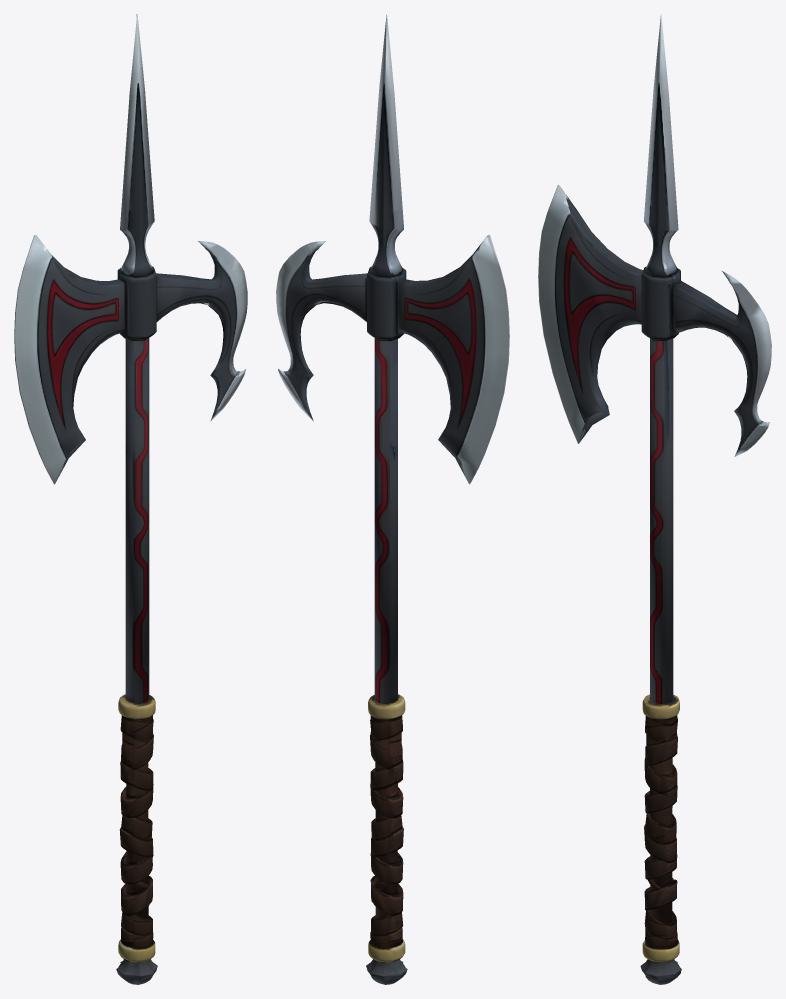
File: halberd-hook.glb
3 views of the same model, side by side, from view 1: azimuth 30°, elevation 25°; view 2: azimuth 150°, elevation 25°; view 3: azimuth 330°, elevation 25° (orthographic).
Visible parts, largest first — view 1: tripo_node_4cd6723c-ea71-4345-8612-1a86103f7a90; view 2: tripo_node_4cd6723c-ea71-4345-8612-1a86103f7a90; view 3: tripo_node_4cd6723c-ea71-4345-8612-1a86103f7a90.
Part boxes in pixels (x1=…): tripo_node_4cd6723c-ea71-4345-8612-1a86103f7a90: x1=14, y1=14, x2=247, y2=984; tripo_node_4cd6723c-ea71-4345-8612-1a86103f7a90: x1=276, y1=14, x2=509, y2=984; tripo_node_4cd6723c-ea71-4345-8612-1a86103f7a90: x1=538, y1=14, x2=771, y2=984.
Bounding box in the file's own units: 0.2524 × 0.9995 × 0.0376.
1 material, 1 textured.
